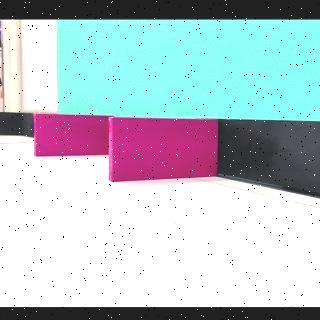xparking: (110, 120, 218, 180), (34, 112, 108, 155)
